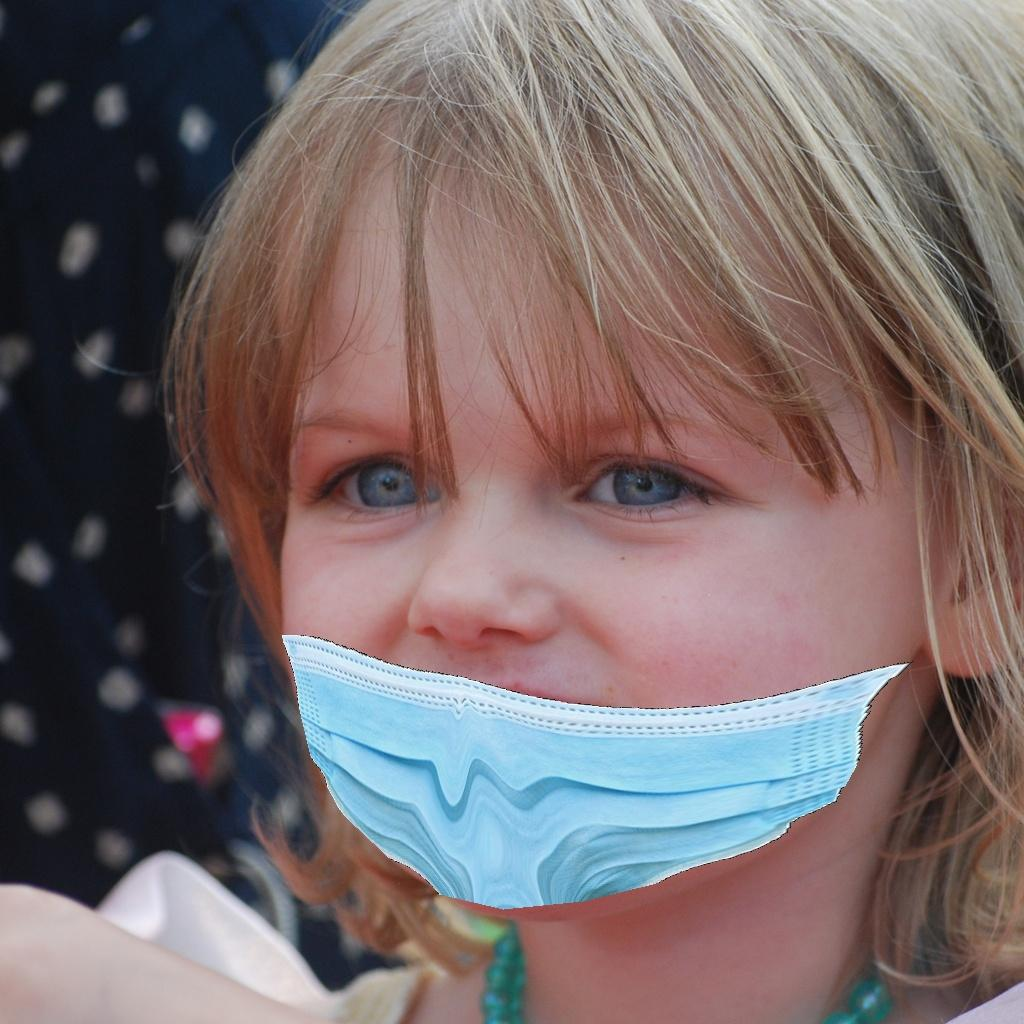Máscara Incorreta: (287, 230, 921, 924)
